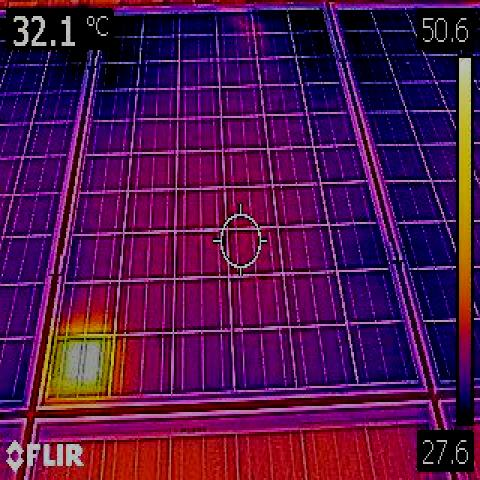fault: (51, 336, 108, 396)
